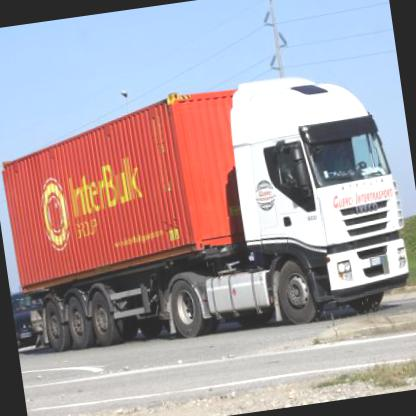truck: (0, 60, 415, 362)
